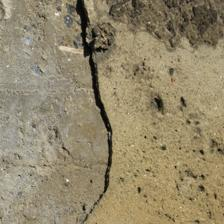Crack: (37, 1, 81, 222)
